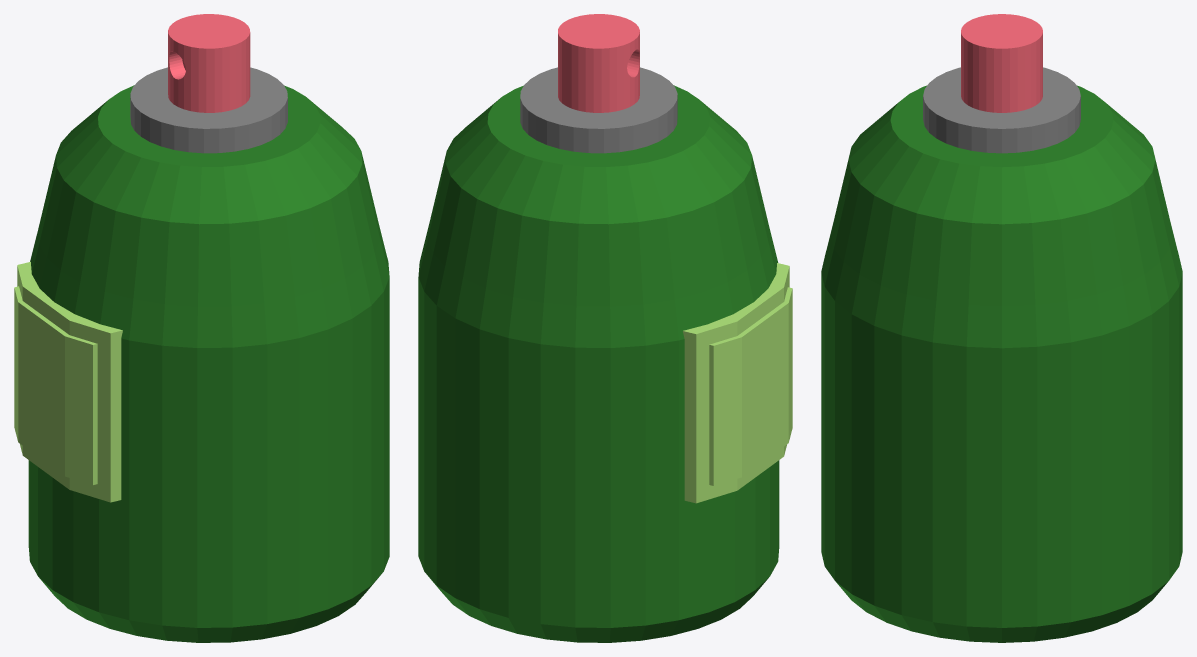
Rendered from spraycan.fbx.
3 views of the same model, side by side, from view 1: azimuth 30°, elevation 25°; view 2: azimuth 150°, elevation 25°; view 3: azimuth 270°, elevation 25° (orthographic).
Parts seen in each view (by area): view 1: spray can; view 2: spray can; view 3: spray can.
Boxes of the visible parts, <box> form: spray can: <box>14,14,389,642</box>; spray can: <box>418,14,792,642</box>; spray can: <box>821,14,1182,642</box>.
Bounding box in the file's own units: 4 × 6.42 × 3.87.
